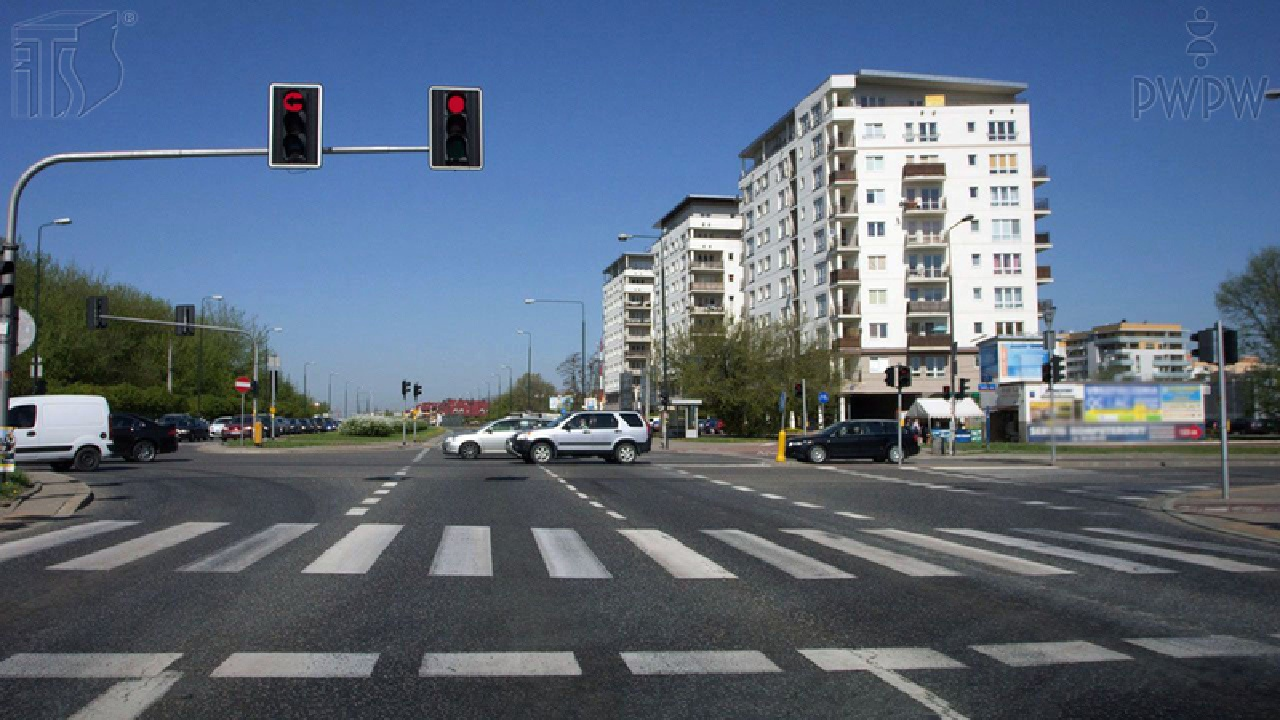B2: (234, 376, 251, 393)
Red: (282, 85, 309, 163), (445, 90, 467, 164)
